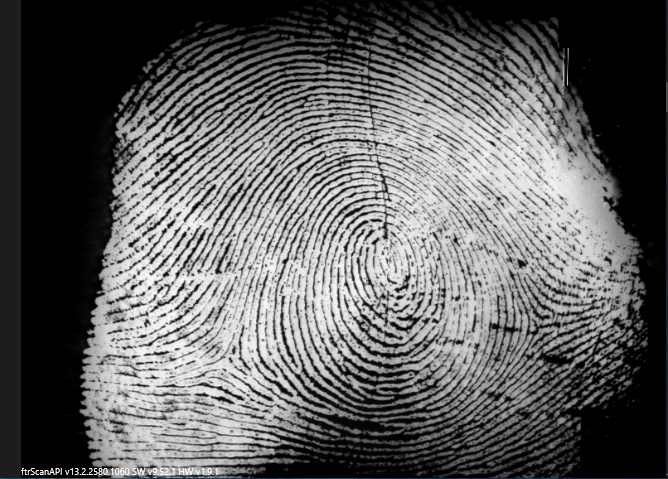nucelo: (375, 243, 403, 282)
verticilo: (213, 342, 250, 377), (526, 311, 553, 338)
